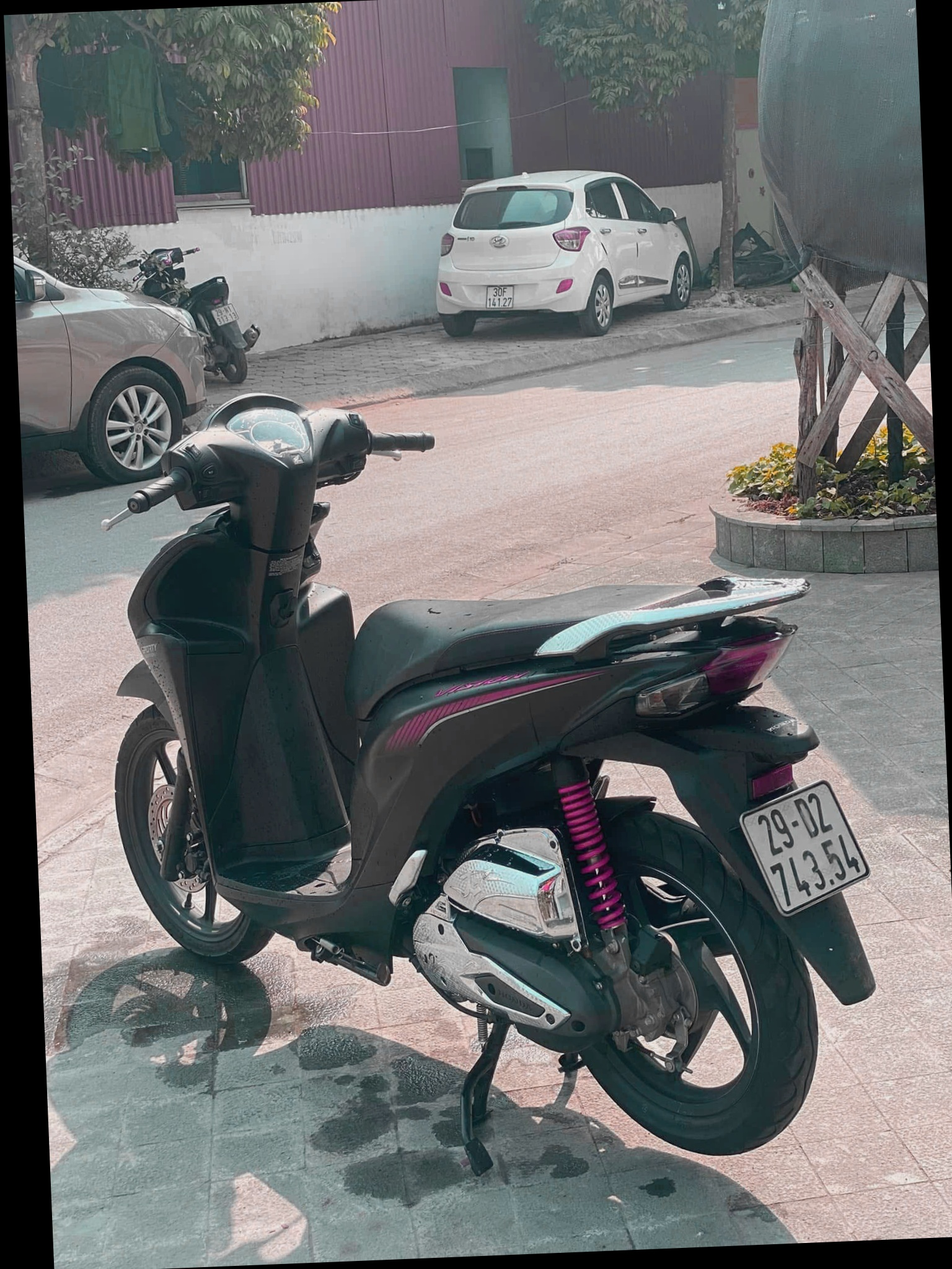Bien-so: (716, 832, 867, 983)
